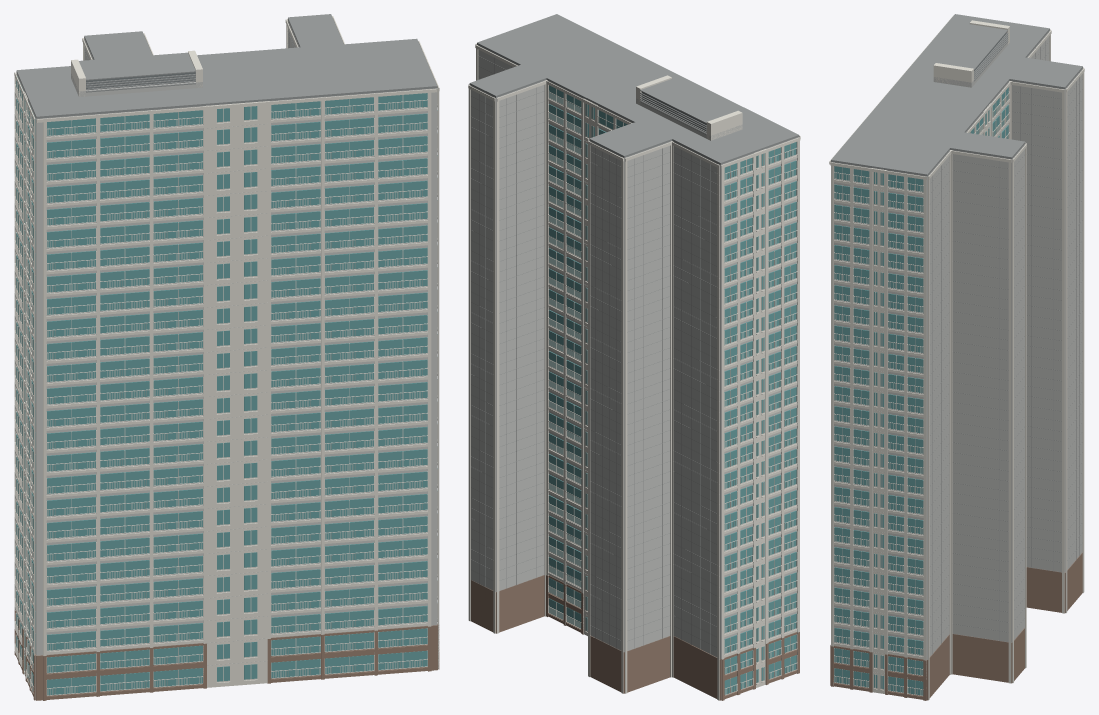
Rendered from bespoke-jamsil-els-118.glb.
3 renders of one model, left to right at view 1: azimuth 30°, elevation 25°; view 2: azimuth 150°, elevation 25°; view 3: azimuth 270°, elevation 25°, orthographic. The views are drawn at different scales.
Visible parts, largest first — view 1: Els118_editable_Els118_turquoise_balcony_glazing, Els118_white_exact_chunk_1, Els118_editable_Els118_light_grey_solid_wall, Els118_white_exact_chunk_3, Els118_white_exact_chunk_2, Els118_editable_Els118_modest_grey_flat_roof_caps, Els118_white_exact_chunk_0, Els118_editable_Els118_muted_ground_wall, Els118_white_exact_chunk_4, Els118_white_exact_chunk_6, Els118_editable_Els118_narrow_charcoal_service_strips; view 2: Els118_editable_Els118_light_grey_solid_wall, Els118_editable_Els118_turquoise_balcony_glazing, Els118_editable_Els118_modest_grey_flat_roof_caps, Els118_white_exact_chunk_0, Els118_white_exact_chunk_5, Els118_editable_Els118_muted_ground_wall, Els118_white_exact_chunk_6, Els118_white_exact_chunk_1; view 3: Els118_editable_Els118_light_grey_solid_wall, Els118_editable_Els118_turquoise_balcony_glazing, Els118_editable_Els118_modest_grey_flat_roof_caps, Els118_white_exact_chunk_4, Els118_white_exact_chunk_5, Els118_editable_Els118_muted_ground_wall, Els118_white_exact_chunk_6, Els118_white_exact_chunk_3.
Boxes of the visible parts, left/top/right/bottom form: Els118_editable_Els118_turquoise_balcony_glazing: left=16, top=76, right=437, bottom=695; Els118_white_exact_chunk_1: left=14, top=72, right=268, bottom=699; Els118_editable_Els118_light_grey_solid_wall: left=16, top=20, right=437, bottom=665; Els118_white_exact_chunk_3: left=36, top=88, right=437, bottom=674; Els118_white_exact_chunk_2: left=43, top=101, right=374, bottom=696; Els118_editable_Els118_modest_grey_flat_roof_caps: left=16, top=14, right=437, bottom=118; Els118_white_exact_chunk_0: left=14, top=71, right=33, bottom=693; Els118_editable_Els118_muted_ground_wall: left=14, top=610, right=439, bottom=700; Els118_white_exact_chunk_4: left=429, top=67, right=439, bottom=669; Els118_white_exact_chunk_6: left=71, top=33, right=202, bottom=96; Els118_editable_Els118_narrow_charcoal_service_strips: left=86, top=72, right=195, bottom=88; Els118_editable_Els118_light_grey_solid_wall: left=470, top=44, right=798, bottom=667; Els118_editable_Els118_turquoise_balcony_glazing: left=549, top=85, right=796, bottom=694; Els118_editable_Els118_modest_grey_flat_roof_caps: left=469, top=14, right=799, bottom=654; Els118_white_exact_chunk_0: left=671, top=141, right=797, bottom=700; Els118_white_exact_chunk_5: left=468, top=43, right=613, bottom=635; Els118_editable_Els118_muted_ground_wall: left=471, top=575, right=799, bottom=700; Els118_white_exact_chunk_6: left=545, top=75, right=742, bottom=693; Els118_white_exact_chunk_1: left=721, top=137, right=800, bottom=679; Els118_editable_Els118_light_grey_solid_wall: left=831, top=30, right=1082, bottom=673; Els118_editable_Els118_turquoise_balcony_glazing: left=834, top=87, right=1008, bottom=695; Els118_editable_Els118_modest_grey_flat_roof_caps: left=831, top=14, right=1082, bottom=655; Els118_white_exact_chunk_4: left=831, top=162, right=923, bottom=696; Els118_white_exact_chunk_5: left=830, top=97, right=1026, bottom=700; Els118_editable_Els118_muted_ground_wall: left=830, top=552, right=1082, bottom=700; Els118_white_exact_chunk_6: left=933, top=20, right=1084, bottom=613; Els118_white_exact_chunk_3: left=829, top=16, right=952, bottom=693.
Bounding box in the file's own units: 47.3 × 73.8 × 31.51.
